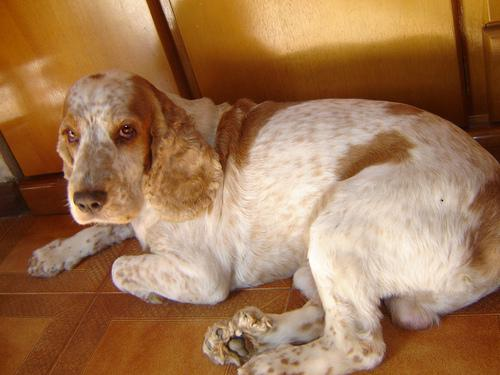dog-english_cocker_spaniel: (56, 69, 222, 224)
